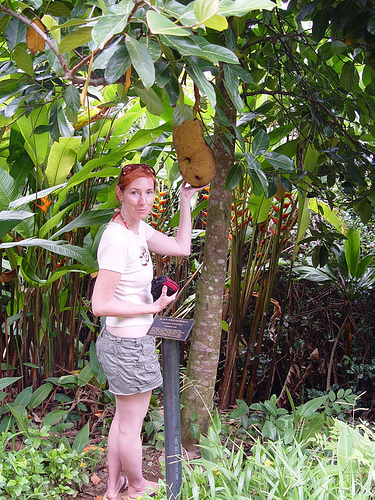jackfruit: (170, 95, 220, 188)
